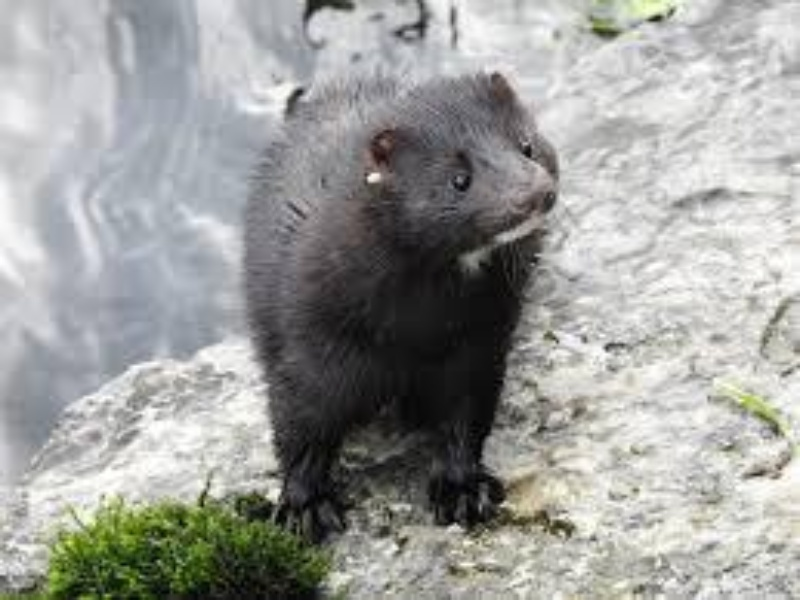minkish: (241, 73, 559, 543)
